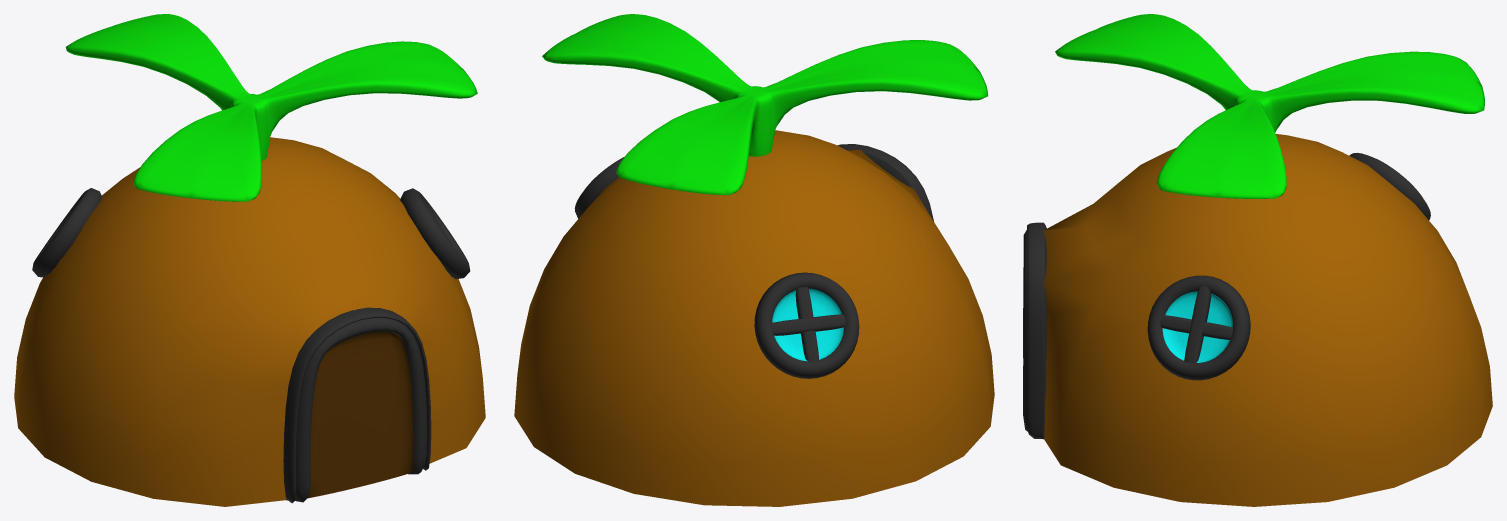
Rendered from House.fbx.
3 views of the same model, side by side, from view 1: azimuth 30°, elevation 25°; view 2: azimuth 150°, elevation 25°; view 3: azimuth 270°, elevation 25° (orthographic).
Parts seen in each view (by area): view 1: group3_pasted__group1_pasted__pasted__pCube3; view 2: group3_pasted__group1_pasted__pasted__pCube3; view 3: group3_pasted__group1_pasted__pasted__pCube3.
Part boxes in pixels (box(x1,y1,x2,y2)): group3_pasted__group1_pasted__pasted__pCube3: box(14, 14, 485, 506); group3_pasted__group1_pasted__pasted__pCube3: box(514, 14, 994, 506); group3_pasted__group1_pasted__pasted__pCube3: box(1023, 14, 1492, 506).
Bounding box in the file's own units: 2 × 1.5 × 1.97.
